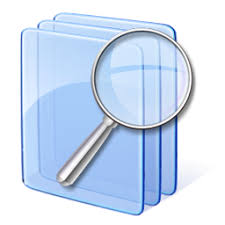searchIcon: (50, 26, 198, 191)
